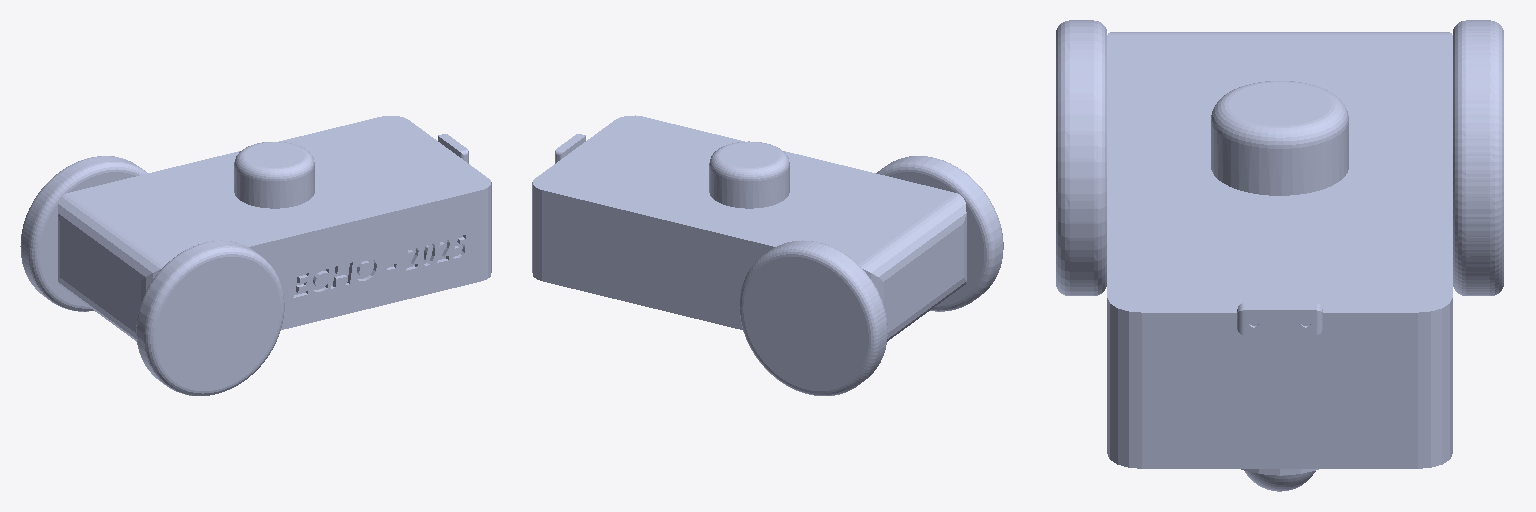
URDF robot description (echo_v1):
<?xml version="1.0" encoding="utf-8"?>
<!-- This URDF was automatically created by SolidWorks to URDF Exporter! Originally created by [author] ([email redacted]) 
     Commit Version: 1.6.0-4-g7f85cfe  Build Version: 1.6.7995.38578
     For more information, please see http://wiki.ros.org/sw_urdf_exporter -->
<robot
  name="echo_v1">

  <!-- Base Footprint (ground frame) -->
  <link name="base_footprint"/>

  <joint name="base_footprint_to_base_link" type="fixed">
    <!-- Rotate base_link 90° counter-clockwise around X -->
    <origin xyz="0 0 0.02" rpy="-1.5708 0 0"/>
    <parent link="base_footprint"/>
    <child link="base_link"/>
  </joint>

  <link
    name="base_link">
    <inertial>
      <origin
        xyz="0.00088588 5.7031E-05 0.02478"
        rpy="0 0 0" />
      <mass
        value="0.99833" />
      <inertia
        ixx="0.0010305"
        ixy="-1.7168E-06"
        ixz="1.5313E-05"
        iyy="0.0035021"
        iyz="1.7459E-07"
        izz="0.0041088" />
    </inertial>
    <visual>
      <origin
        xyz="0 0 0"
        rpy="0 0 0" />
      <geometry>
        <mesh
          filename="package://echo_sim_v1/meshes/base_link.STL" />
      </geometry>
      <material
        name="">
        <color
          rgba="0.79216 0.81961 0.93333 1" />
      </material>
    </visual>
    <collision>
      <origin
        xyz="0 0 0"
        rpy="0 0 0" />
      <geometry>
        <mesh
          filename="package://echo_sim_v1/meshes/base_link.STL" />
      </geometry>
    </collision>
  </link>
  <link
    name="left_wheel_link">
    <inertial>
      <origin
        xyz="-1.3878E-17 0.0075 0"
        rpy="0 0 0" />
      <mass
        value="0.073711" />
      <inertia
        ixx="3.0207E-05"
        ixy="-3.1866E-38"
        ixz="1.075E-37"
        iyy="5.7735E-05"
        iyz="1.0613E-38"
        izz="3.0207E-05" />
    </inertial>
    <visual>
      <origin
        xyz="0 0 0"
        rpy="0 0 0" />
      <geometry>
        <mesh
          filename="package://echo_sim_v1/meshes/left_wheel_link.STL" />
      </geometry>
      <material
        name="">
        <color
          rgba="0.79216 0.81961 0.93333 1" />
      </material>
    </visual>
    <collision>
      <origin
        xyz="0 0 0"
        rpy="0 0 0" />
      <geometry>
        <mesh
          filename="package://echo_sim_v1/meshes/left_wheel_link.STL" />
      </geometry>
    </collision>
  </link>
  <joint
    name="base_link_to_left_wheel"
    type="continuous">
    <origin
      xyz="-0.07 -0.02 0.05"
      rpy="-1.5708 0 -1.5708" />
    <parent
      link="base_link" />
    <child
      link="left_wheel_link" />
    <axis
      xyz="0 -1 0" />
  </joint>
  <link
    name="right_wheel_link">
    <inertial>
      <origin
        xyz="-1.3878E-17 -0.0075 0"
        rpy="0 0 0" />
      <mass
        value="0.073711" />
      <inertia
        ixx="3.0207E-05"
        ixy="-3.1866E-38"
        ixz="1.075E-37"
        iyy="5.7735E-05"
        iyz="1.0613E-38"
        izz="3.0207E-05" />
    </inertial>
    <visual>
      <origin
        xyz="0 0 0"
        rpy="0 0 0" />
      <geometry>
        <mesh
          filename="package://echo_sim_v1/meshes/right_wheel_link.STL" />
      </geometry>
      <material
        name="">
        <color
          rgba="0.79216 0.81961 0.93333 1" />
      </material>
    </visual>
    <collision>
      <origin
        xyz="0 0 0"
        rpy="0 0 0" />
      <geometry>
        <mesh
          filename="package://echo_sim_v1/meshes/right_wheel_link.STL" />
      </geometry>
    </collision>
  </link>
  <joint
    name="base_link_to_right_wheel"
    type="continuous">
    <origin
      xyz="-0.07 -0.02 -0.05"
      rpy="1.5708 0 0" />
    <parent
      link="base_link" />
    <child
      link="right_wheel_link" />
    <axis
      xyz="0 1 0" />
  </joint>
  <link
    name="caster_wheel_link">
    <inertial>
      <origin
        xyz="1.3878E-17 -5.5511E-17 0.0045"
        rpy="0 0 0" />
      <mass
        value="0.0036191" />
      <inertia
        ixx="1.3517E-07"
        ixy="-1.3235E-23"
        ixz="-8.7993E-24"
        iyy="1.3517E-07"
        iyz="-5.2645E-22"
        izz="2.0846E-07" />
    </inertial>
    <visual>
      <origin
        xyz="0 0 0"
        rpy="0 0 0" />
      <geometry>
        <mesh
          filename="package://echo_sim_v1/meshes/caster_wheel_link.STL" />
      </geometry>
      <material
        name="">
        <color
          rgba="0.79216 0.81961 0.93333 1" />
      </material>
    </visual>
    <collision>
      <origin
        xyz="0 0 0"
        rpy="0 0 0" />
      <geometry>
        <mesh
          filename="package://echo_sim_v1/meshes/caster_wheel_link.STL" />
      </geometry>
    </collision>
  </link>
  <joint
    name="base_link_to_caster_wheel"
    type="fixed">
    <origin
      xyz="0.07 0.008 0"
      rpy="1.5708 -1.2948 3.1416" />
    <parent
      link="base_link" />
    <child
      link="caster_wheel_link" />
    <axis
      xyz="0 0 0" />
  </joint>
  <link
    name="lidar_link">
    <inertial>
      <origin
        xyz="-2.6195E-17 -1.1719E-17 0.0097699"
        rpy="0 0 0" />
      <mass
        value="0.024496" />
      <inertia
        ixx="3.1849E-06"
        ixy="3.1764E-22"
        ixz="-1.8127E-23"
        iyy="3.1849E-06"
        iyz="-3.5234E-23"
        izz="4.7979E-06" />
    </inertial>
    <visual>
      <origin
        xyz="0 0 0"
        rpy="0 0 0" />
      <geometry>
        <mesh
          filename="package://echo_sim_v1/meshes/lidar_link.STL" />
      </geometry>
      <material
        name="">
        <color
          rgba="0.79216 0.81961 0.93333 1" />
      </material>
    </visual>
    <collision>
      <origin
        xyz="0 0 0"
        rpy="0 0 0" />
      <geometry>
        <mesh
          filename="package://echo_sim_v1/meshes/lidar_link.STL" />
      </geometry>
    </collision>
  </link>
  <joint
    name="base_link_to_lidar"
    type="fixed">
    <origin
      xyz="0 -0.05 0"
      rpy="1.5708 0.30388 0" />
    <parent
      link="base_link" />
    <child
      link="lidar_link" />
    <axis
      xyz="0 0 0" />
  </joint>
  <link
    name="camera_link">
    <inertial>
      <origin
        xyz="0.0024702 4.5609E-18 -6.9389E-18"
        rpy="0 0 0" />
      <mass
        value="0.00094737" />
      <inertia
        ixx="5.0737E-08"
        ixy="5.1013E-24"
        ixz="5.311E-25"
        iyy="6.9275E-09"
        iyz="7.8632E-15"
        izz="4.7598E-08" />
    </inertial>
    <visual>
      <origin
        xyz="0 0 0"
        rpy="0 0 0" />
      <geometry>
        <mesh
          filename="package://echo_sim_v1/meshes/camera_link.STL" />
      </geometry>
      <material
        name="">
        <color
          rgba="0.79216 0.81961 0.93333 1" />
      </material>
    </visual>
    <collision>
      <origin
        xyz="0 0 0"
        rpy="0 0 0" />
      <geometry>
        <mesh
          filename="package://echo_sim_v1/meshes/camera_link.STL" />
      </geometry>
    </collision>
  </link>
  <joint
    name="base_link_to_camera"
    type="fixed">
    <origin
      xyz="0.1 -0.049 0"
      rpy="1.5708 0 0" />
    <parent
      link="base_link" />
    <child
      link="camera_link" />
    <axis
      xyz="0 0 0" />
  </joint>
</robot>

--- Render facts (derived) ---
3 views of the same robot in one strip: view 1: azimuth 30°, elevation 25°; view 2: azimuth 150°, elevation 25°; view 3: azimuth 270°, elevation 25° (orthographic).
Robot: echo_v1 — 7 links, 6 joints (2 continuous, 4 fixed); root link base_footprint; default pose: all joints at 0.
Visible links, largest first — view 1: caster_wheel_link, right_wheel_link, base_link, left_wheel_link, camera_link; view 2: camera_link, caster_wheel_link, right_wheel_link, base_link, left_wheel_link; view 3: caster_wheel_link, right_wheel_link, base_link, left_wheel_link, camera_link.
Link boxes in pixels (x1,y1,x2,y2): caster_wheel_link: (21, 142, 491, 395); right_wheel_link: (26, 116, 490, 349); base_link: (27, 139, 487, 350); left_wheel_link: (20, 156, 147, 311); camera_link: (21, 149, 464, 391); camera_link: (532, 181, 1002, 395); caster_wheel_link: (533, 123, 1003, 381); right_wheel_link: (533, 116, 1002, 319); base_link: (564, 115, 1002, 395); left_wheel_link: (739, 241, 887, 395); caster_wheel_link: (1056, 20, 1494, 491); right_wheel_link: (1107, 22, 1501, 457); base_link: (1094, 21, 1498, 491); left_wheel_link: (1453, 20, 1503, 295); camera_link: (1070, 28, 1503, 491).
Bounding box of the posed robot: 0.215 × 0.13 × 0.09 m (x, y, z).
Meshes: 6 distinct files referenced, 6 mesh visuals loaded (6 binary STL).
